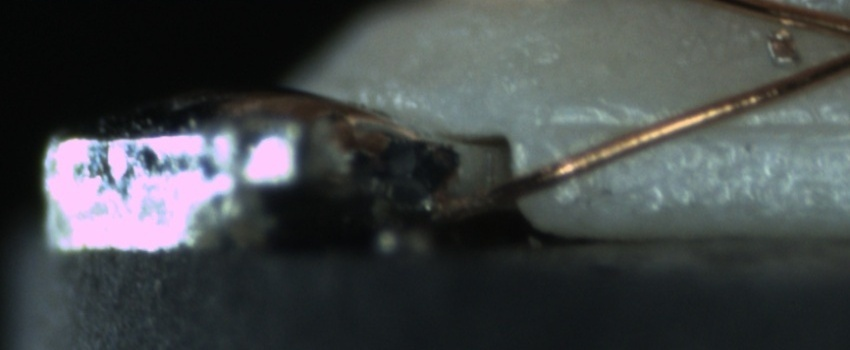DL: (544, 94, 850, 156)
